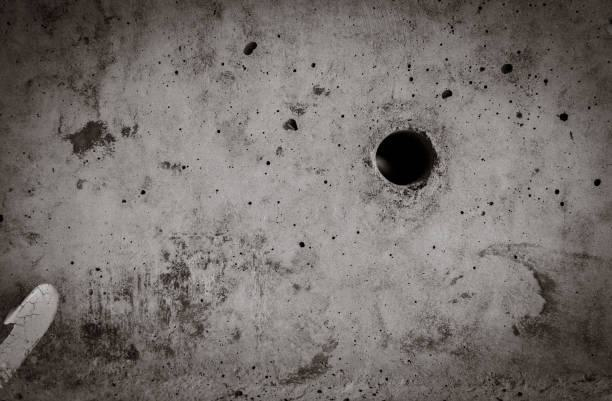Spalling: (121, 1, 612, 401), (375, 128, 440, 187)
